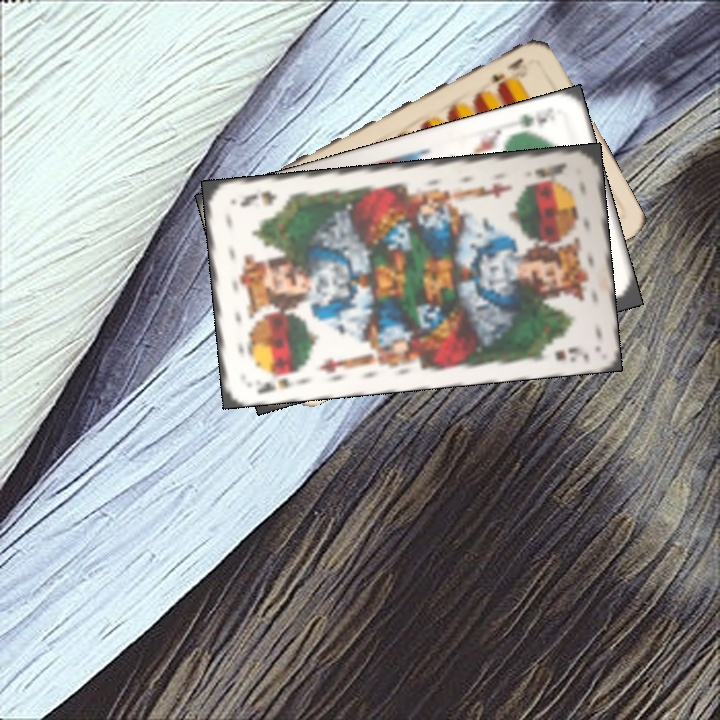E10: (488, 53, 526, 87)
GK: (513, 103, 558, 131)
SK: (253, 366, 305, 396), (531, 159, 570, 181)
